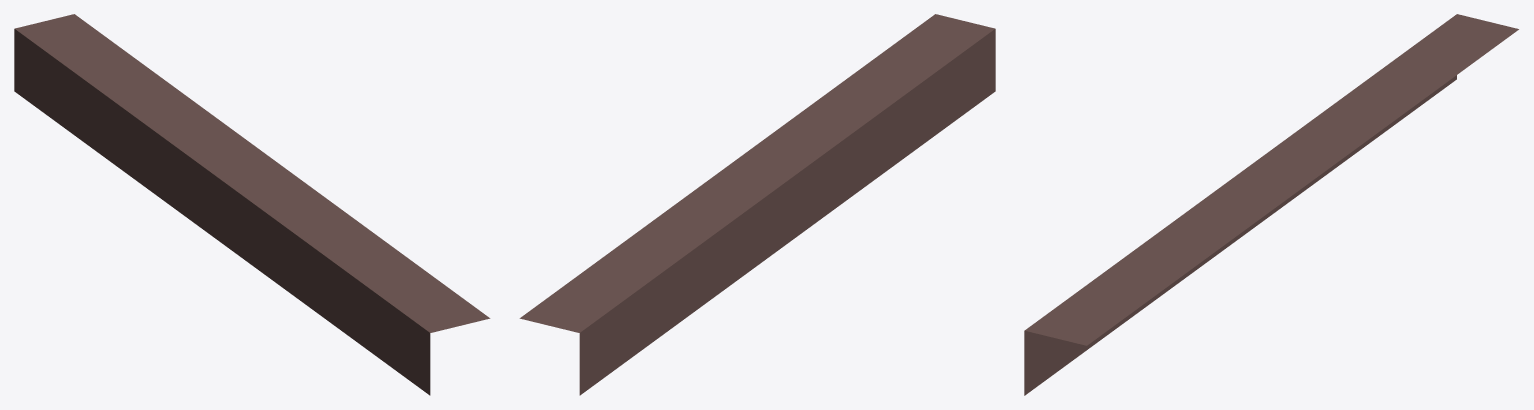
The model's file is Missile_Wall_2.fbx.
3 views of the same model, side by side, from view 1: azimuth 30°, elevation 25°; view 2: azimuth 150°, elevation 25°; view 3: azimuth 330°, elevation 25° (orthographic). The views are drawn at different scales.
Visible parts, largest first — view 1: Platform.032; view 2: Platform.032; view 3: Platform.032.
Part boxes in pixels (box(x1,y1,x2,y2)): Platform.032: box(14, 14, 490, 395); Platform.032: box(519, 14, 995, 395); Platform.032: box(1024, 14, 1518, 395).
Bounding box in the file's own units: 300 × 300 × 3600.
